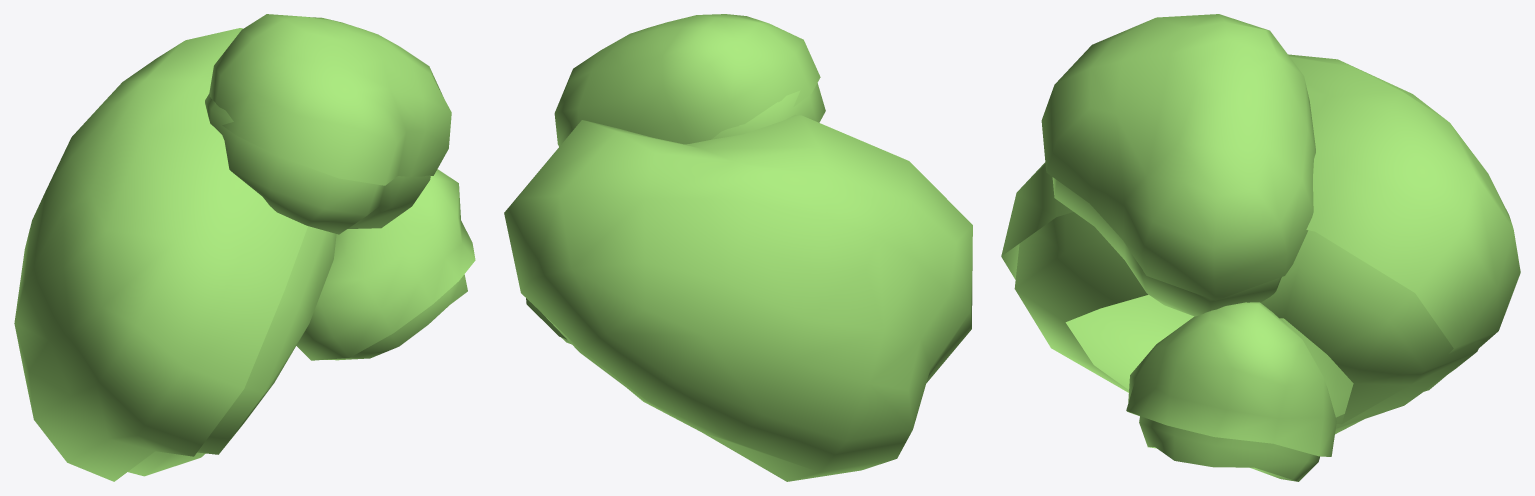
File: FoliageMesh_01.fbx
3 views of the same model, side by side, from view 1: azimuth 30°, elevation 25°; view 2: azimuth 150°, elevation 25°; view 3: azimuth 270°, elevation 25° (orthographic). The views are drawn at different scales.
Parts seen in each view (by area): view 1: pSphere26; view 2: pSphere26; view 3: pSphere26.
Boxes of the visible parts, box(x1,y1,x2,y2) form: pSphere26: box(14, 14, 475, 481); pSphere26: box(504, 14, 972, 481); pSphere26: box(1001, 14, 1520, 481).
Bounding box in the file's own units: 10.48 × 10.12 × 9.6.
